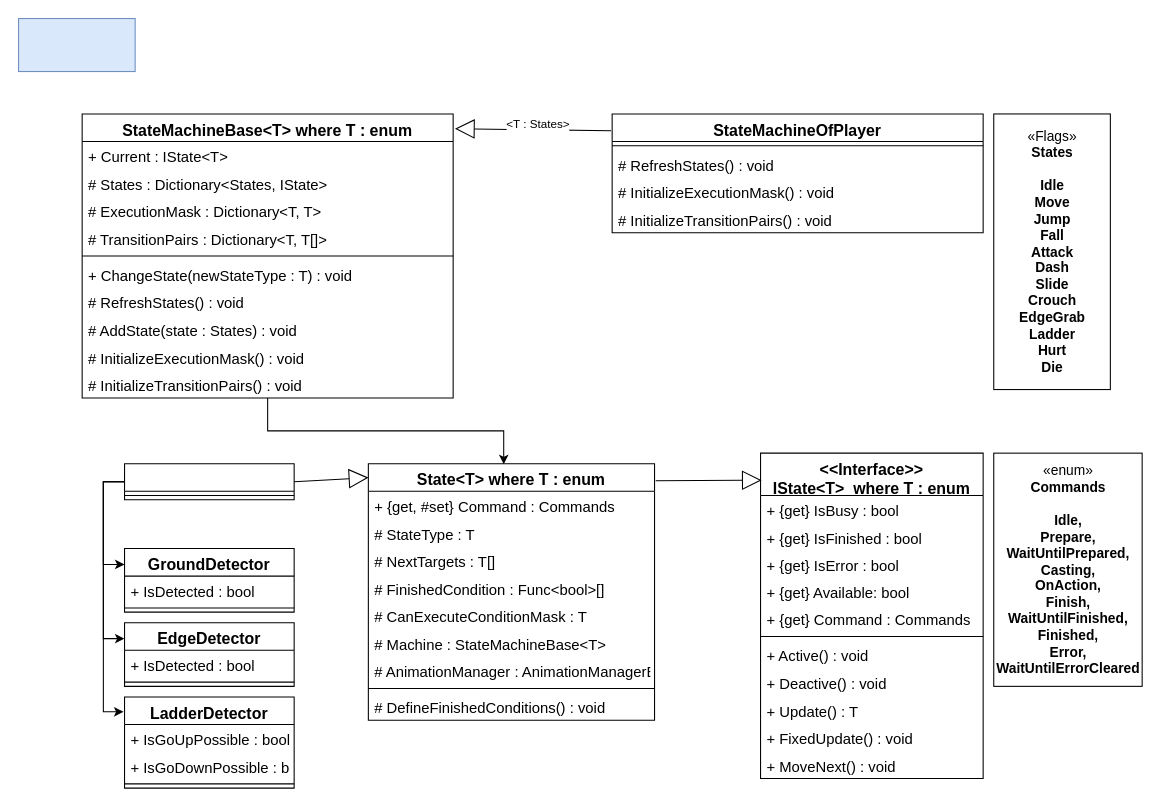
This 1161x807 diagram has some shape labels left out. Each missing label, with the centre of its shape:
StateExtends: the point at 208,481
UML: the point at 76,44
